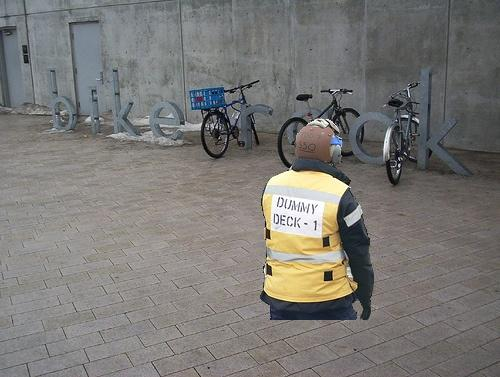tampered: (261, 119, 374, 320)
